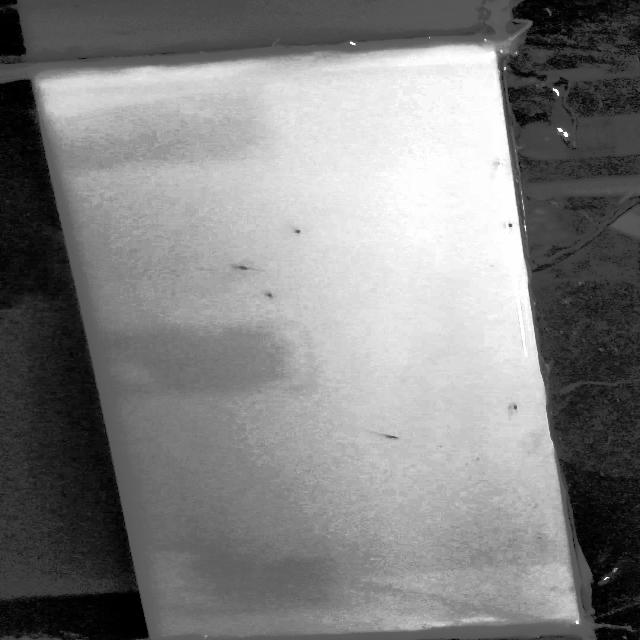shrimp: (364, 428, 412, 448), (248, 287, 284, 303), (224, 260, 259, 276), (285, 222, 316, 240), (499, 394, 522, 416), (490, 218, 521, 230)
